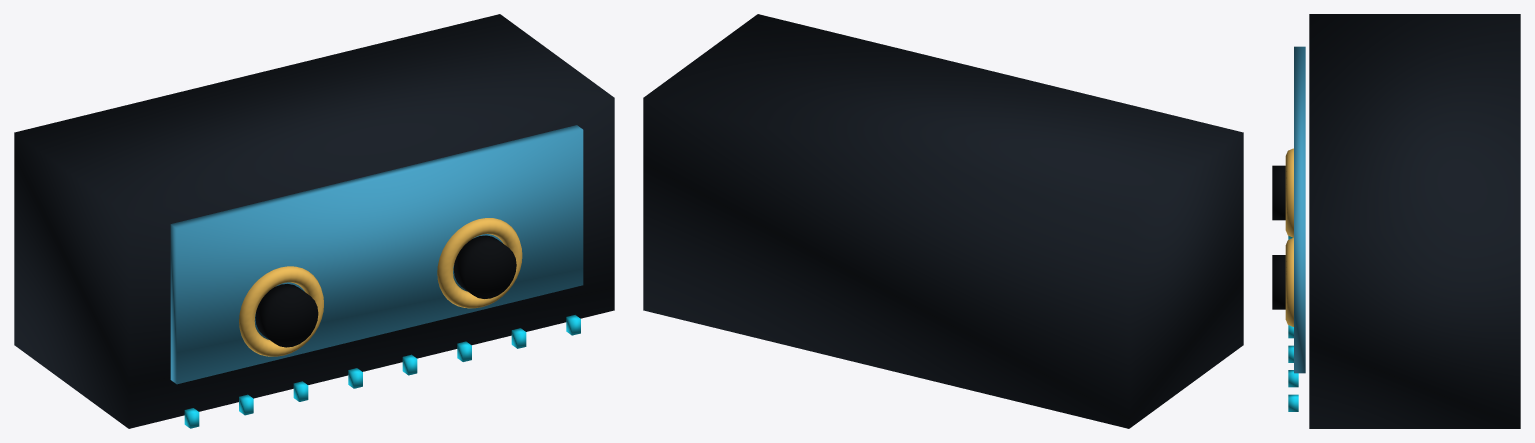
The model's file is 72_L93_DualAccessGlovePorts.fbx.
3 renders of one model, left to right at view 1: azimuth 30°, elevation 25°; view 2: azimuth 150°, elevation 25°; view 3: azimuth 270°, elevation 25°, orthographic. The views are drawn at different scales.
Parts seen in each view (by area): view 1: L92_DualAccessGlovePorts_Part_0000, L92_DualAccessGlovePorts_Part_0001, L92_DualAccessGlovePorts_Part_0003, L92_DualAccessGlovePorts_Part_0002, L92_DualAccessGlovePorts_Part_0004; view 2: L92_DualAccessGlovePorts_Part_0000; view 3: L92_DualAccessGlovePorts_Part_0000, L92_DualAccessGlovePorts_Part_0001, L92_DualAccessGlovePorts_Part_0003, L92_DualAccessGlovePorts_Part_0002, L92_DualAccessGlovePorts_Part_0004.
Part boxes in pixels (<box>): L92_DualAccessGlovePorts_Part_0000: <box>14,14,614,428</box>; L92_DualAccessGlovePorts_Part_0001: <box>170,125,583,384</box>; L92_DualAccessGlovePorts_Part_0003: <box>255,235,516,347</box>; L92_DualAccessGlovePorts_Part_0002: <box>239,218,522,356</box>; L92_DualAccessGlovePorts_Part_0004: <box>184,315,580,428</box>; L92_DualAccessGlovePorts_Part_0000: <box>643,14,1243,428</box>; L92_DualAccessGlovePorts_Part_0000: <box>1309,14,1520,428</box>; L92_DualAccessGlovePorts_Part_0001: <box>1294,46,1305,373</box>; L92_DualAccessGlovePorts_Part_0003: <box>1272,165,1285,309</box>; L92_DualAccessGlovePorts_Part_0002: <box>1285,148,1293,326</box>; L92_DualAccessGlovePorts_Part_0004: <box>1288,236,1298,411</box>.
Size of the model in its own units: 490 by 208 by 235.
